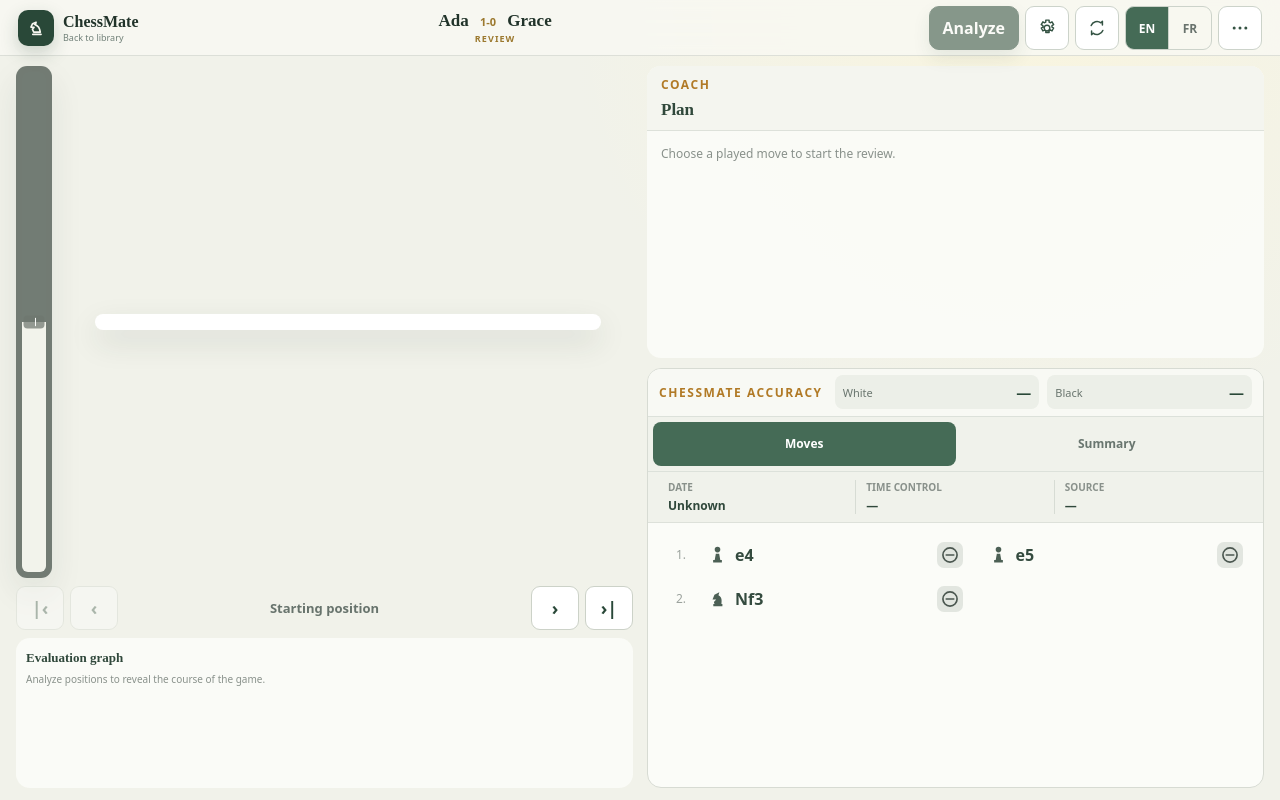
ReviewScreen › distinguishes an unavailable Stockfish engine from an unrated move
Expected: the number of elements named "Not rated" is 3, [936,542,962,568]; [1217,542,1243,568]; [936,586,962,612]
What coordinates should you click on to do the following:
click the tab "Summary"
I would click on:
 (1107, 444)
Its box is [956,422,1258,466].
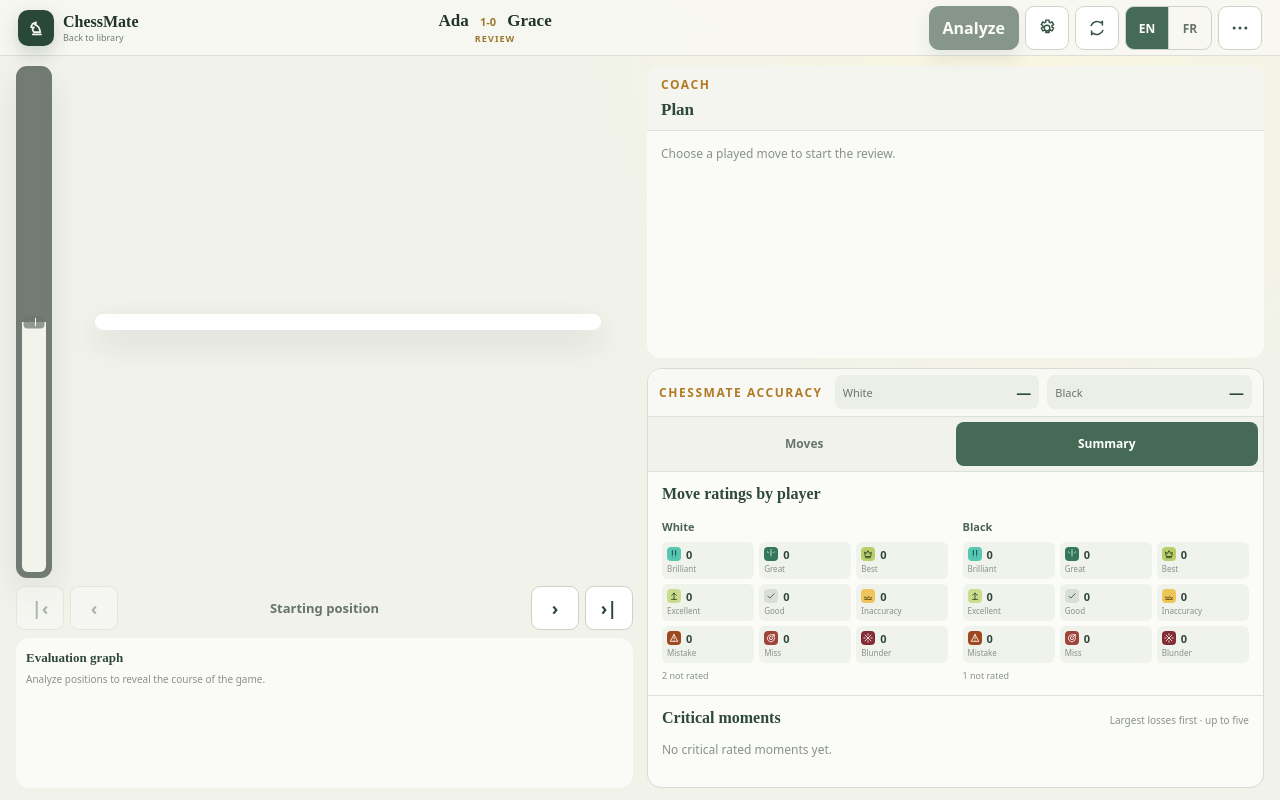
Expected: the text "—" is shown 2 times, [1016,382,1031,402]; [1229,382,1244,402]
What coordinates should you click on to do the following:
click the tab "Moves"
I would click on:
 (804, 444)
Its box is [653,422,956,466].
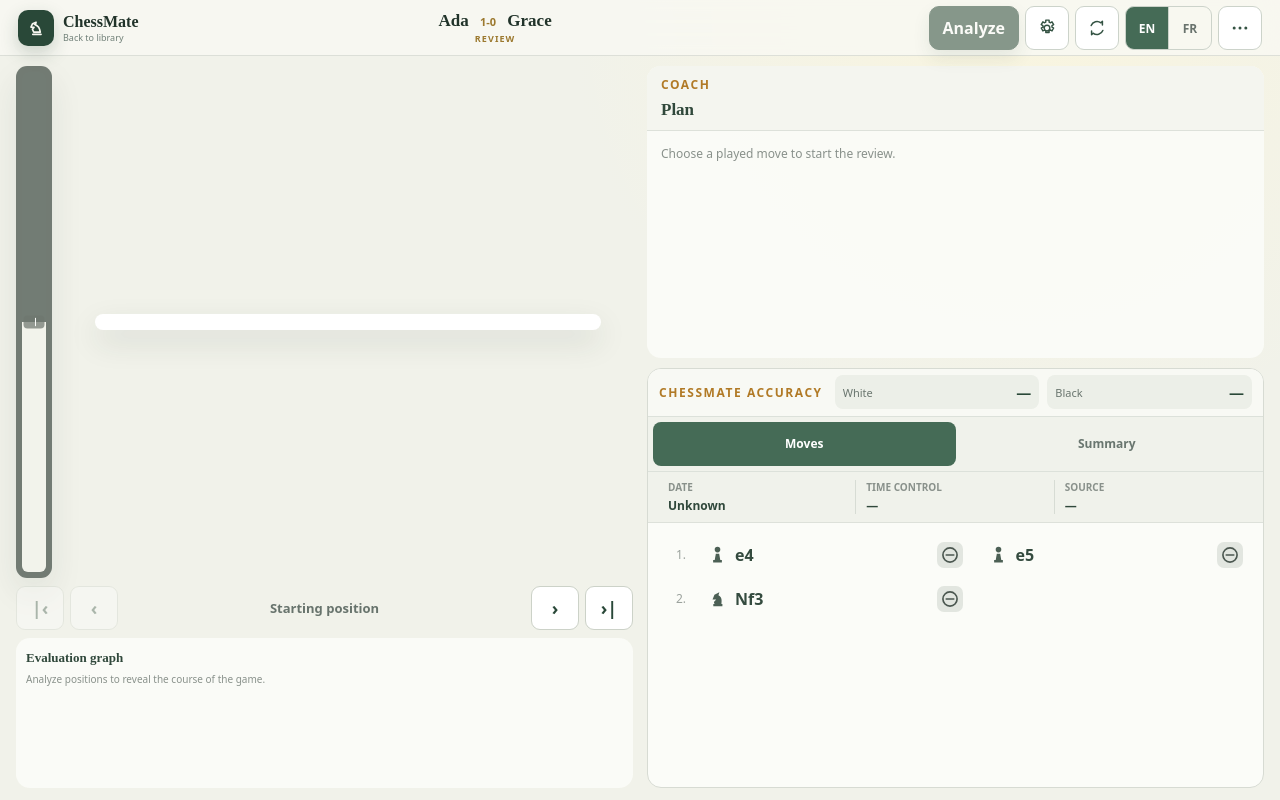
What coordinates should you click on to do the following:
click the button "e4"
I would click on:
 (718, 555)
Its box is [697,533,972,577].
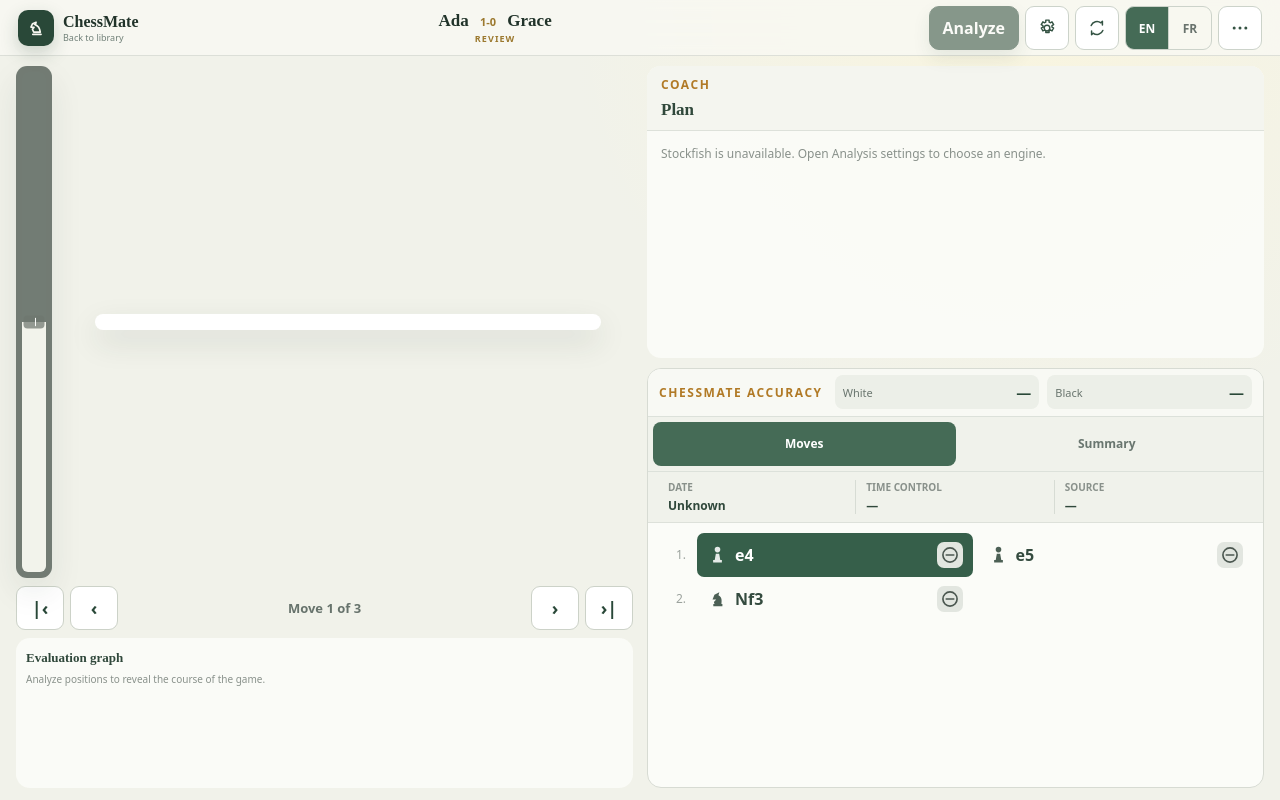
Expected: the element named "Coach" does not show "Analyze both adjacent positions to rate this move.", [647,66,1264,358]
Expected: the element named "Coach" does not show "not rated", [647,66,1264,358]
Expected: the text "Stockfish is unavailable. Open Analysis settings to choose an engine." is shown, [661,145,1046,162]
